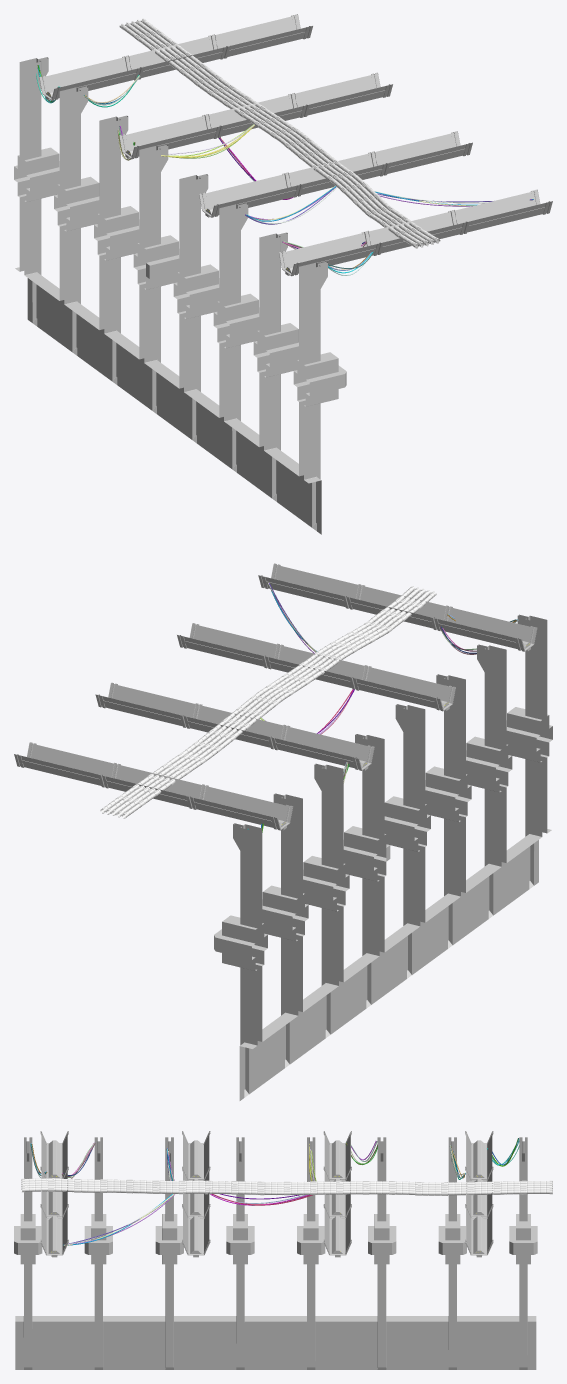
Rendered from MiniLab.fbx.
The picture shows the model from 3 angles, top to bottom: view 1: azimuth 30°, elevation 25°; view 2: azimuth 150°, elevation 25°; view 3: azimuth 270°, elevation 25°; orthographic projection. The views are drawn at different scales.
Visible parts, largest first — view 1: Door.004, Roof_Ligths, Roof_Cable, GeoCables; view 2: Door.004, Roof_Ligths, Roof_Cable, GeoCables; view 3: Door.004, Roof_Ligths, Roof_Cable, GeoCables.
Boxes of the visible parts, x1,y1,x2,y2 form: Door.004: (14,57,346,534); Roof_Ligths: (39,14,552,276); Roof_Cable: (119,18,440,248); GeoCables: (36,65,533,275); Door.004: (214,614,552,1100); Roof_Ligths: (14,563,537,830); Roof_Cable: (100,586,436,818); GeoCables: (247,582,518,832); Door.004: (14,1137,537,1369); Roof_Ligths: (40,1131,493,1257); Roof_Cable: (21,1178,552,1195); GeoCables: (30,1138,519,1245).
Size of the model in its own units: 2000 by 1953 by 4075.
